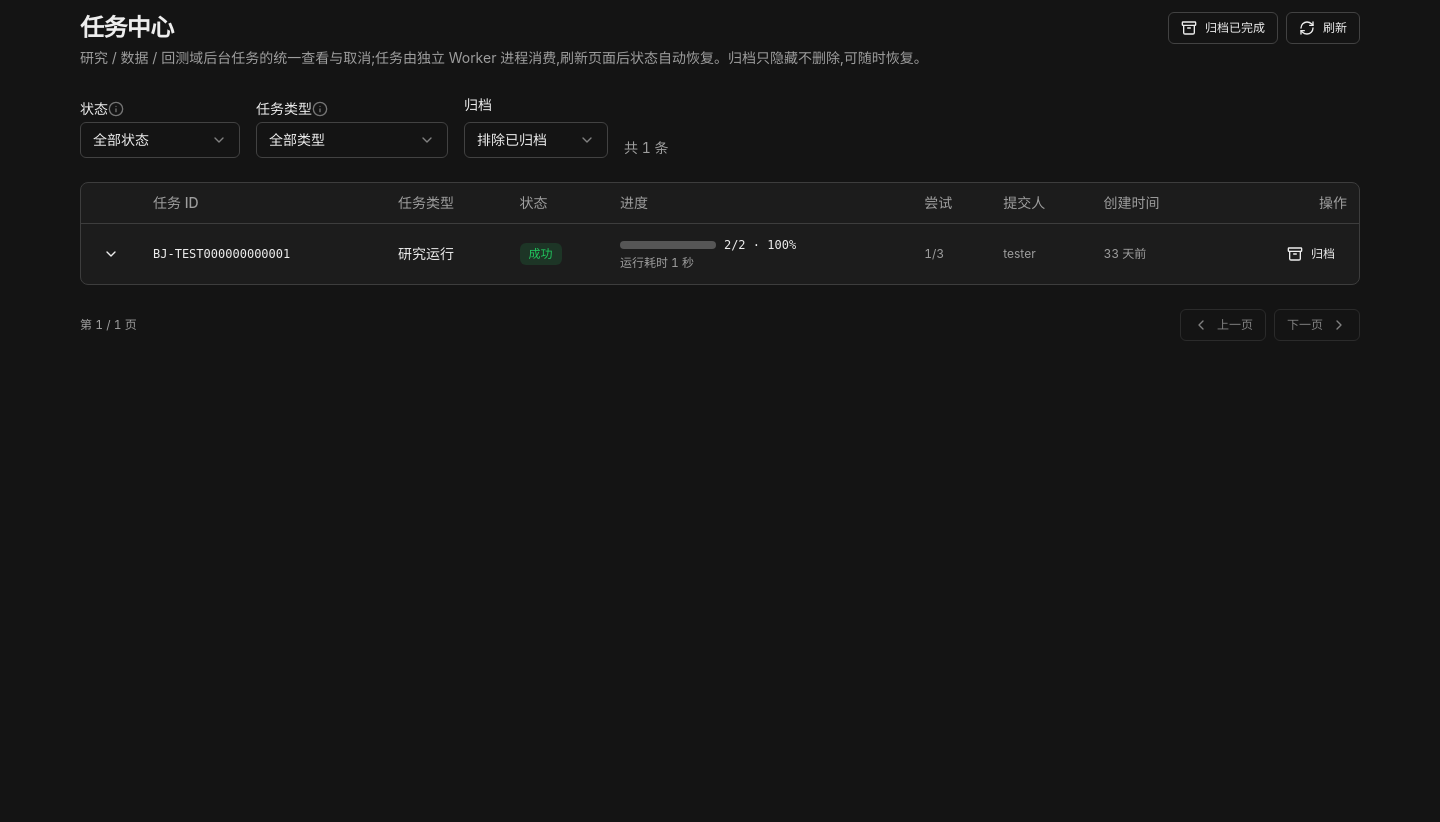
Test case: 任务中心页 › run 状态一致时不显示不一致告警(issue #308)
The image size is (1440, 822).
expect the text "BJ-TEST000000000001" is shown: met, box [141,223,386,284]
Click the button named "展开任务详情" at (111, 254), box [93,236,129,272]
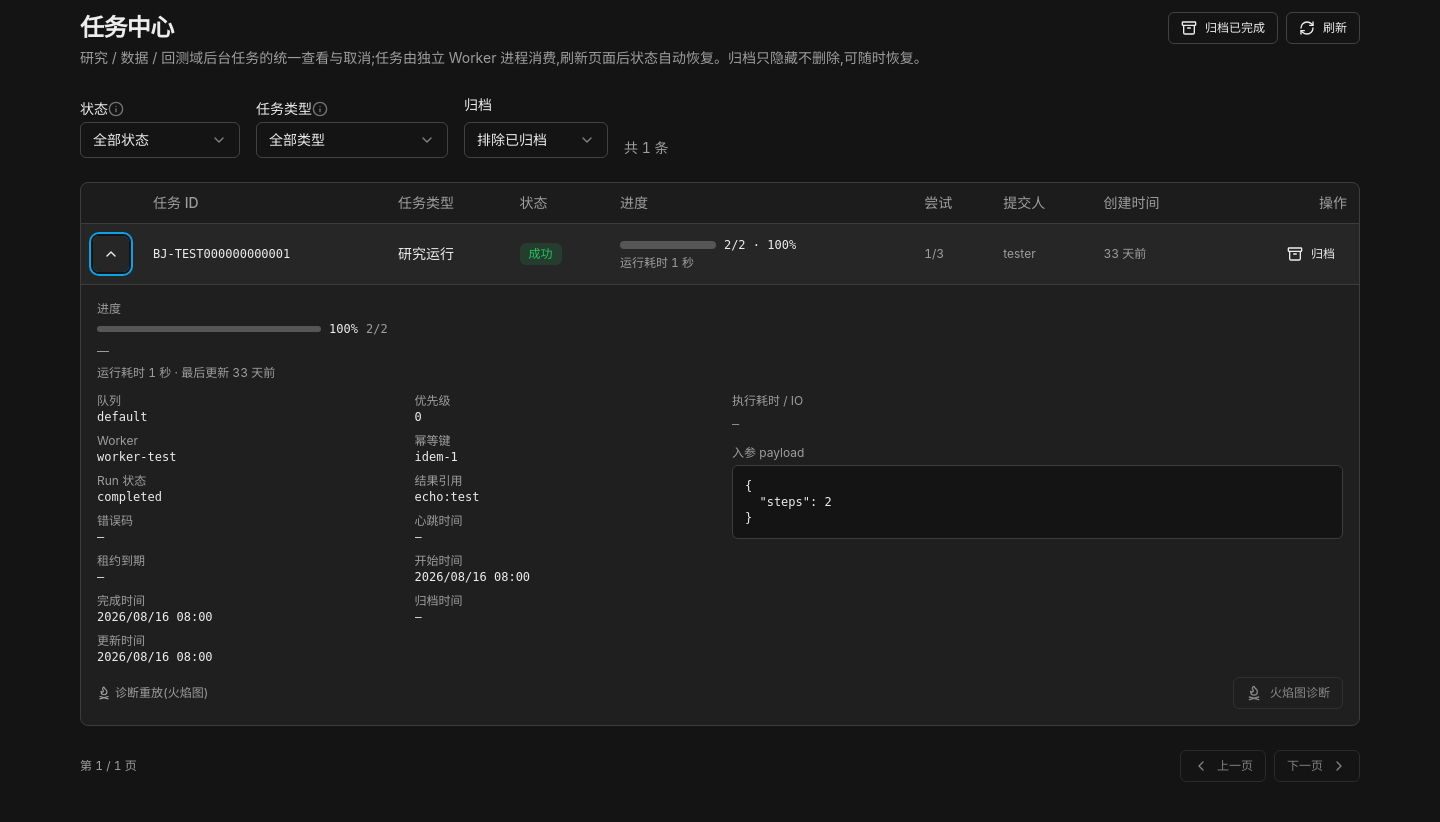
expect the text "completed" is shown: met, box [97,490,162,504]
